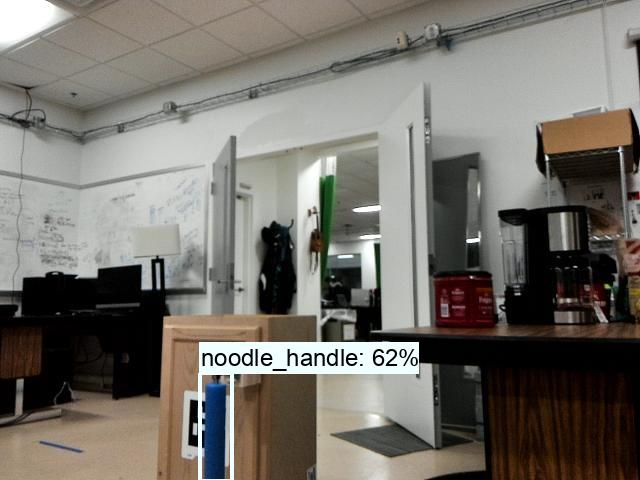noodle_handle: (201, 373, 233, 480)
